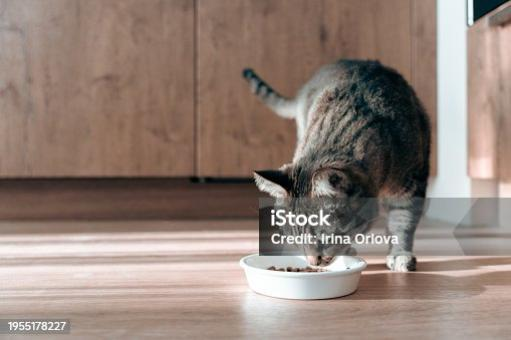cat_eating: (240, 59, 432, 300)
